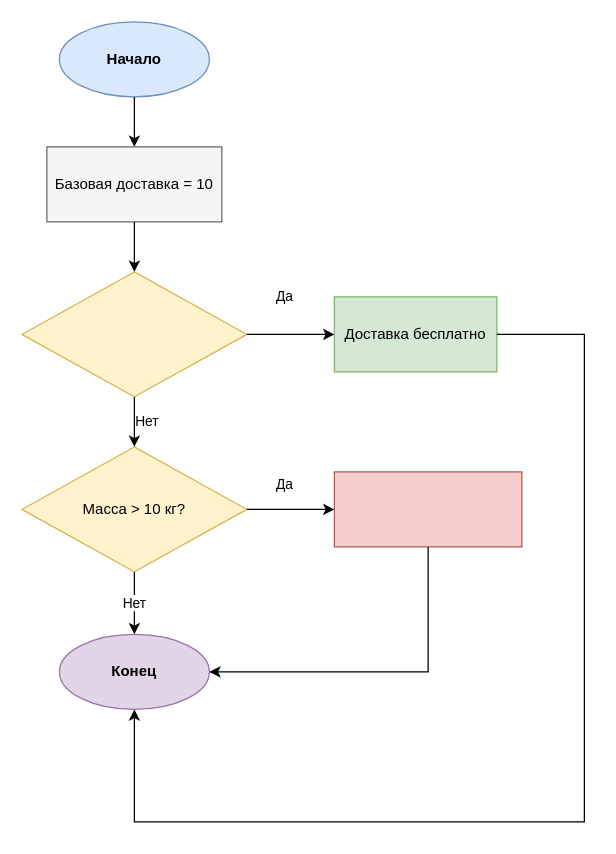
Some shapes in this 616 by 854 pixel diagram are drawn without their labels. Each missing label, with the centre of its shape:
"Доставка + 8" goes at (427,509).
"Сумма заказа >= 100?" goes at (134,334).
